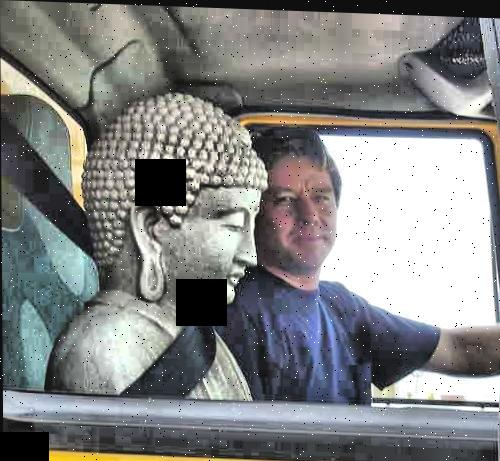seatbelt: (8, 115, 239, 407)
